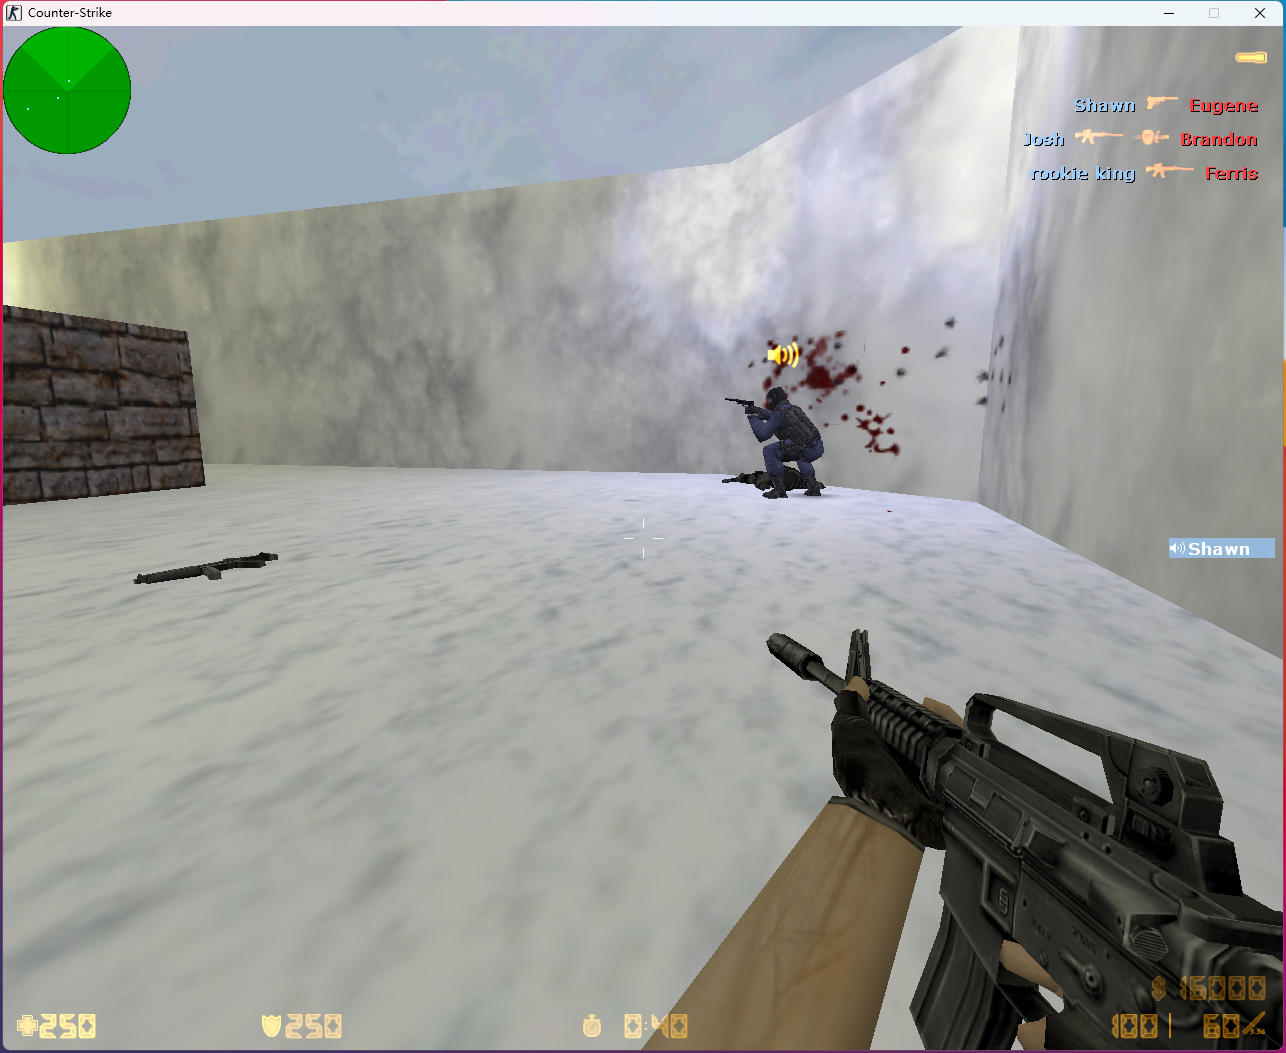C: (742, 382, 822, 501)
weapon: (117, 549, 280, 588)
